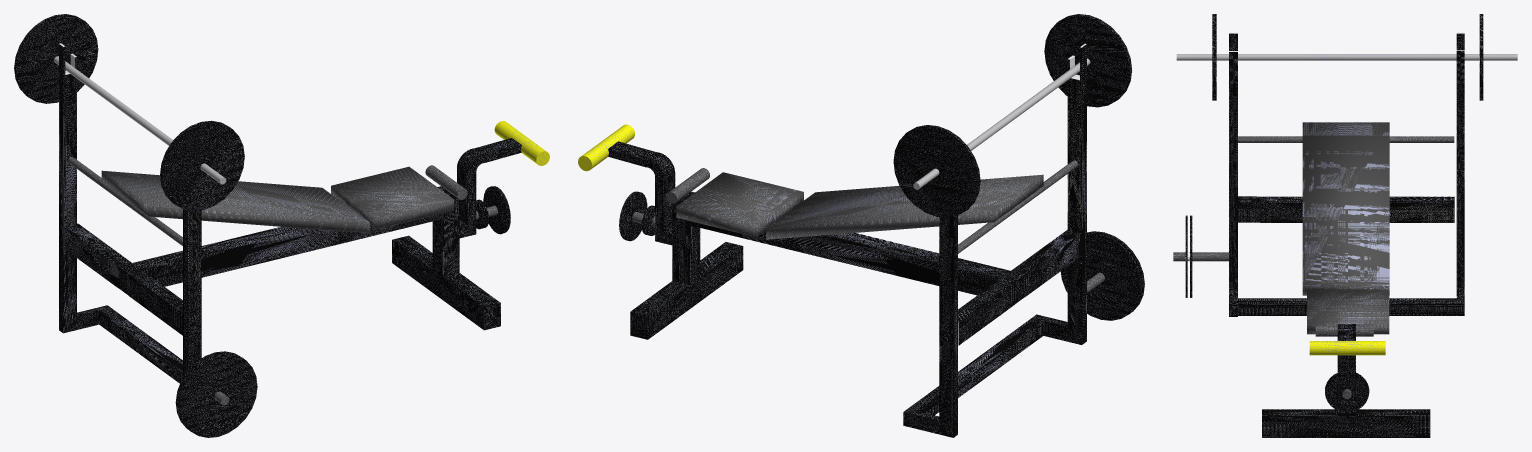
The picture shows the model from 3 angles, left to right: view 1: azimuth 30°, elevation 25°; view 2: azimuth 150°, elevation 25°; view 3: azimuth 270°, elevation 25°; orthographic projection. The views are drawn at different scales.
Visible parts, largest first — view 1: SketchUp (×11); view 2: SketchUp (×11); view 3: SketchUp (×12).
Part boxes in pixels (x1,y1,x2,y2): SketchUp (×11): [14, 14, 549, 437]; SketchUp (×11): [578, 14, 1142, 437]; SketchUp (×12): [1176, 14, 1483, 437].
Bounding box in the file's own units: 104 × 77.25 × 69.42.
